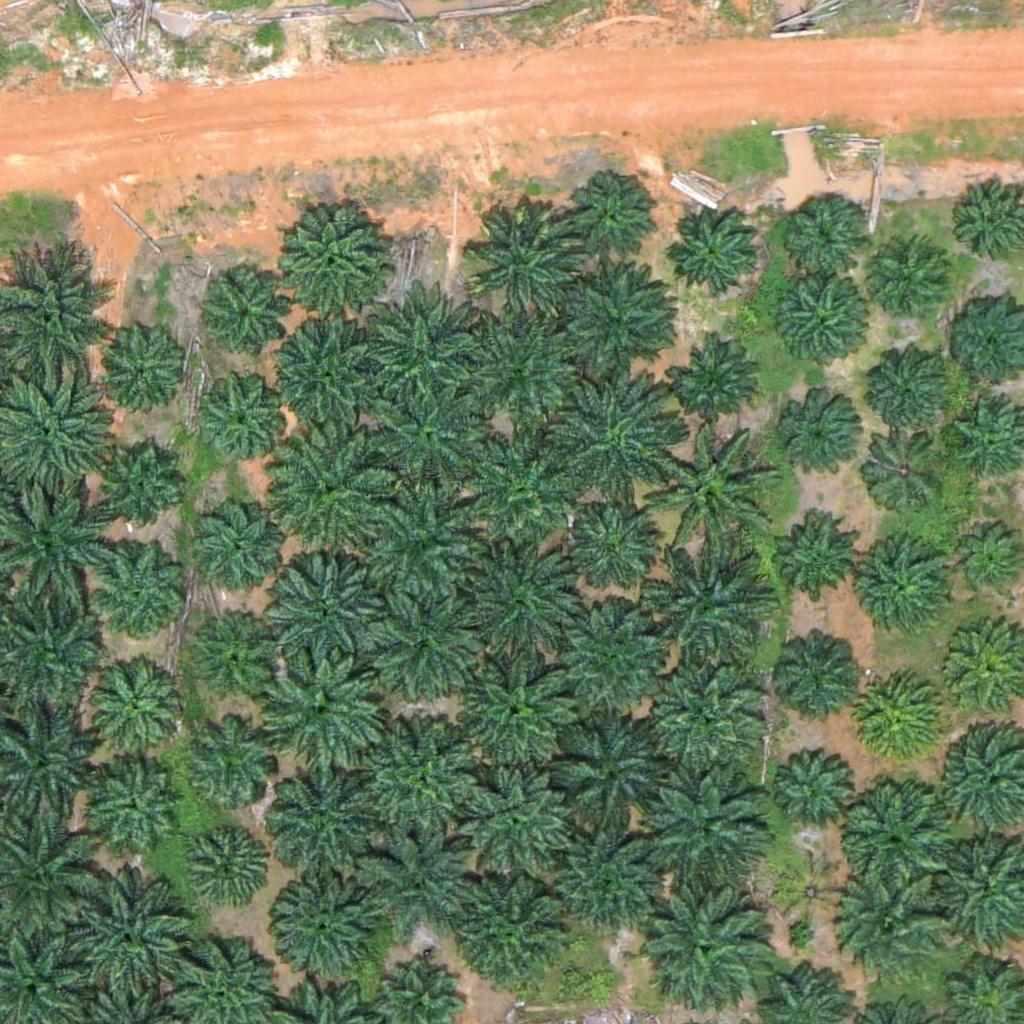Kelapa_Sawit: (465, 198, 590, 324), (457, 306, 582, 432), (462, 434, 587, 560), (462, 546, 587, 672), (456, 656, 581, 782), (450, 869, 575, 995), (360, 820, 485, 946), (356, 716, 481, 842), (363, 483, 488, 609), (368, 375, 493, 501), (362, 295, 487, 421), (266, 315, 391, 441), (265, 544, 390, 670), (261, 649, 386, 775), (75, 873, 200, 999), (547, 377, 672, 503), (547, 603, 672, 729), (544, 710, 669, 836), (545, 819, 670, 945), (639, 774, 764, 900), (647, 886, 772, 1012), (647, 546, 772, 672), (644, 430, 769, 556), (826, 862, 951, 988), (446, 754, 571, 879), (360, 586, 485, 711), (277, 426, 402, 551), (551, 256, 676, 381), (642, 649, 767, 774), (271, 201, 384, 315), (264, 773, 377, 886), (269, 876, 382, 989), (839, 776, 951, 890), (89, 546, 189, 647), (84, 656, 184, 757), (81, 756, 181, 857), (91, 317, 191, 417), (857, 542, 957, 642), (185, 715, 273, 803), (196, 496, 284, 584), (572, 502, 660, 590), (775, 281, 863, 369), (780, 396, 868, 484), (768, 508, 856, 596), (772, 625, 860, 713), (858, 673, 946, 761), (672, 334, 759, 423), (778, 189, 865, 277), (865, 343, 952, 431), (188, 819, 275, 907), (196, 614, 283, 702), (203, 373, 290, 461), (202, 274, 289, 362), (96, 446, 183, 534), (569, 179, 656, 267), (667, 205, 754, 293), (771, 744, 858, 832), (860, 424, 947, 512), (868, 235, 955, 323), (778, 857, 840, 920)
